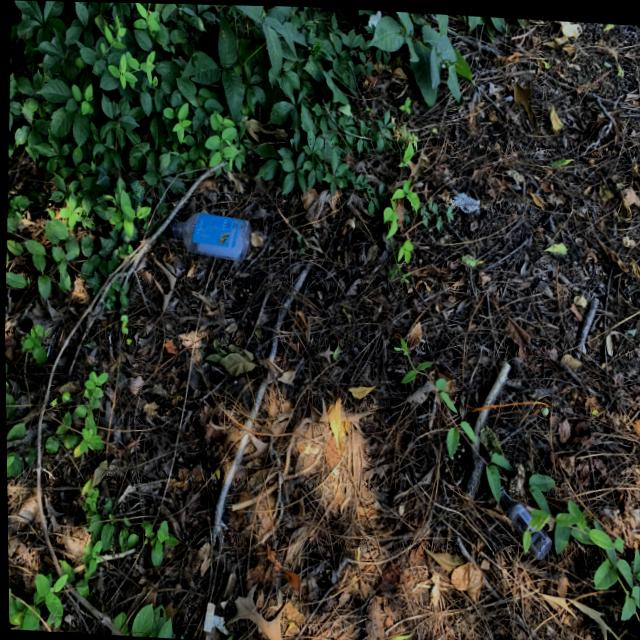Plastic: (162, 206, 253, 267), (493, 480, 558, 559)
